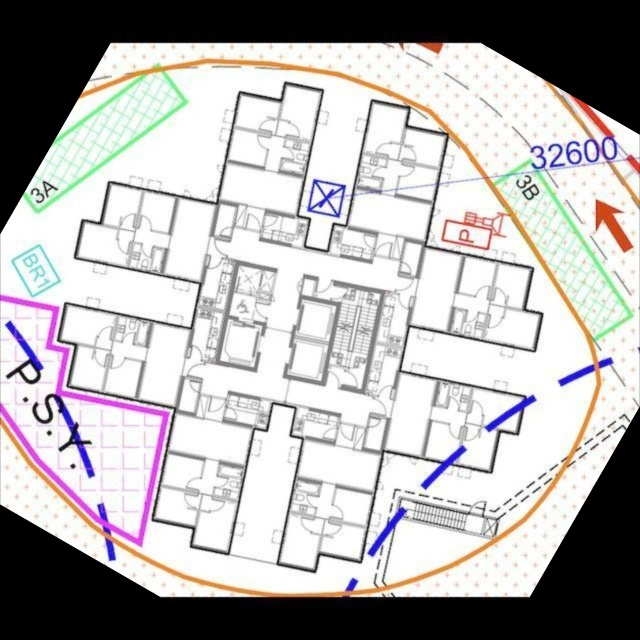tower_crane: (306, 179, 350, 221)
